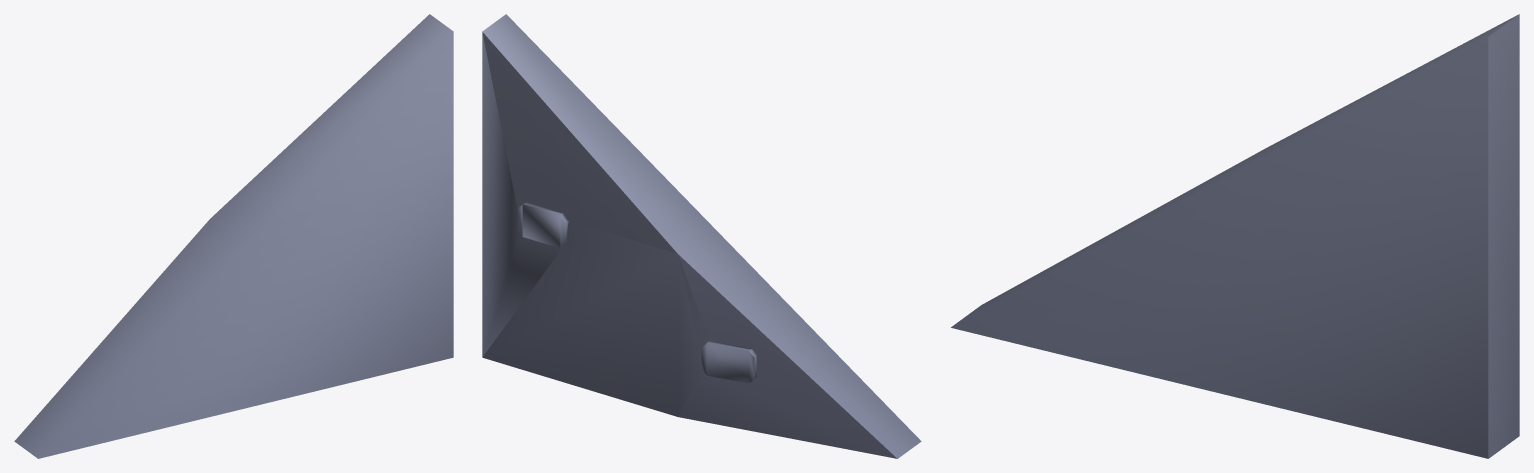
File: template-wall-stairs_lev2.glb
The picture shows the model from 3 angles, left to right: view 1: azimuth 30°, elevation 25°; view 2: azimuth 150°, elevation 25°; view 3: azimuth 330°, elevation 25°; orthographic projection. The views are drawn at different scales.
Parts seen in each view (by area): view 1: template-wall-stairs_lev2; view 2: template-wall-stairs_lev2; view 3: template-wall-stairs_lev2.
Boxes of the visible parts, <box> form: template-wall-stairs_lev2: <box>14,14,453,458</box>; template-wall-stairs_lev2: <box>482,14,921,458</box>; template-wall-stairs_lev2: <box>951,14,1519,458</box>.
Size of the model in its own units: 4 by 3 by 0.6261.
Materials: 1 (1 with a texture image).
